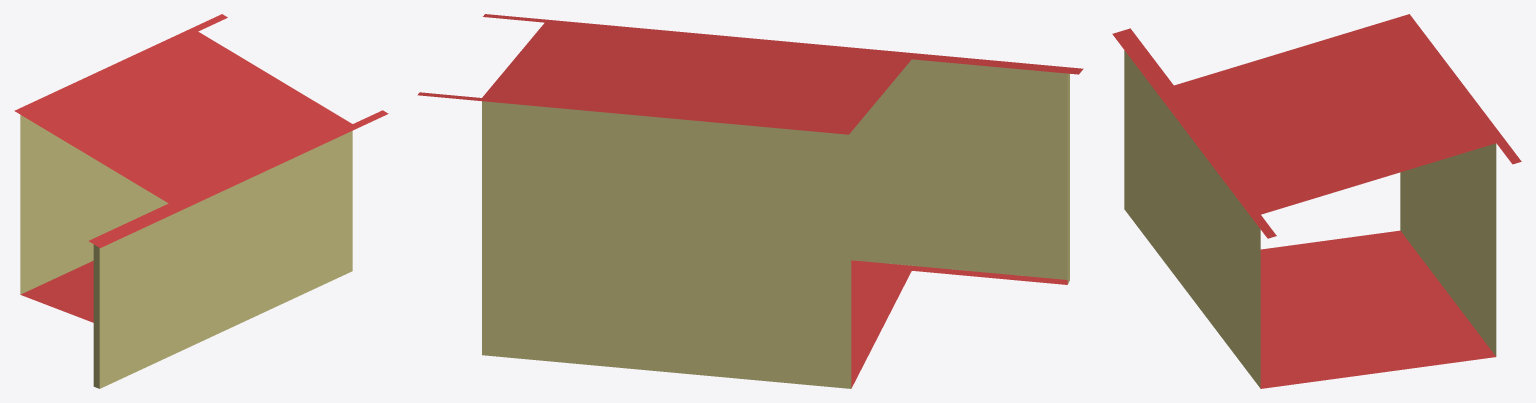
3 views of the same model, side by side, from view 1: azimuth 30°, elevation 25°; view 2: azimuth 150°, elevation 25°; view 3: azimuth 270°, elevation 25° (orthographic). The views are drawn at different scales.
Bounding box in the file's own units: 12.71 × 10.61 × 6.15.
